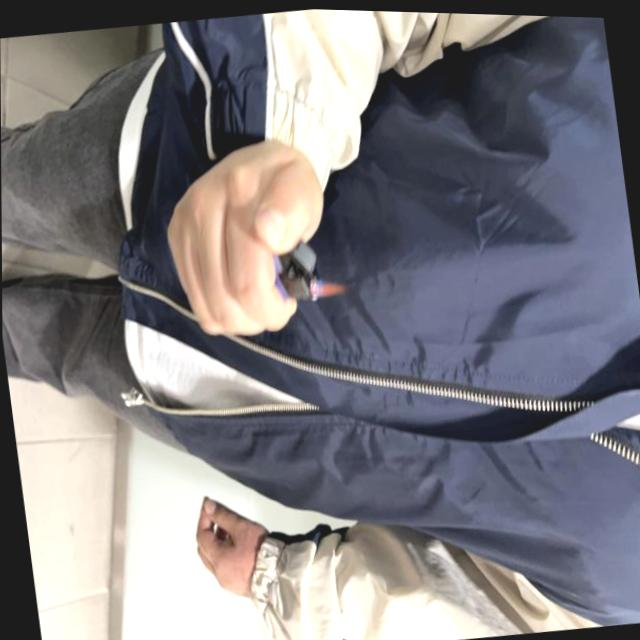Fire: (311, 274, 345, 299)
